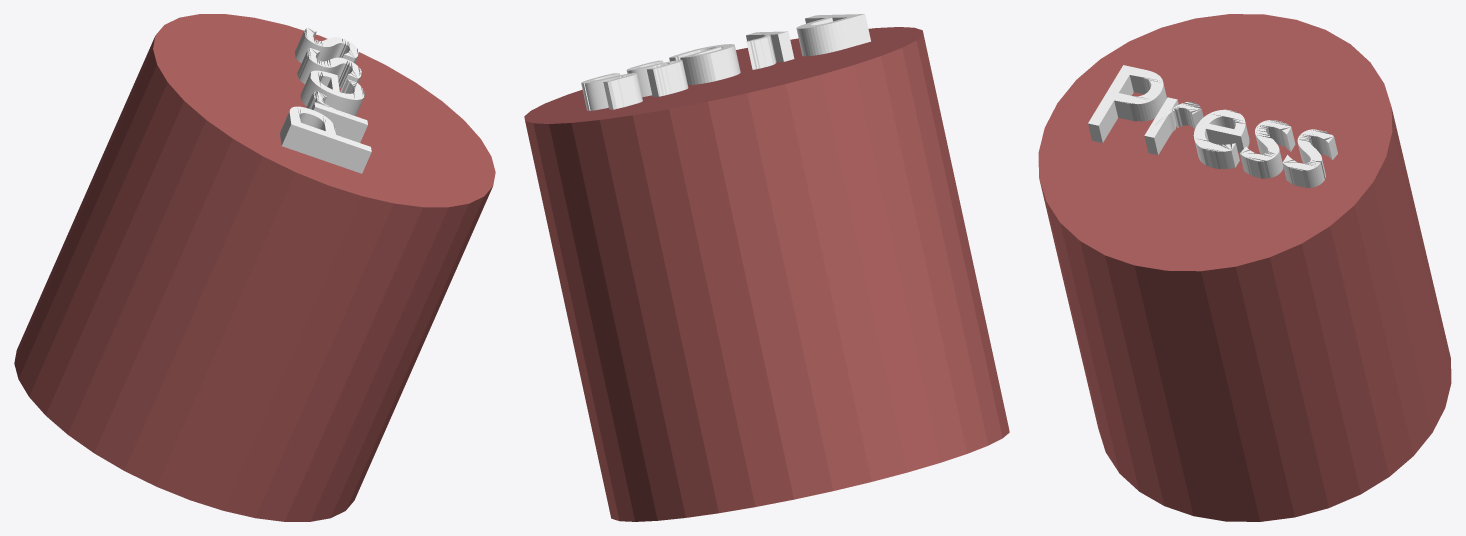
The model's file is butPalace.glb.
The picture shows the model from 3 angles, left to right: view 1: azimuth 30°, elevation 25°; view 2: azimuth 150°, elevation 25°; view 3: azimuth 270°, elevation 25°; orthographic projection. The views are drawn at different scales.
Parts seen in each view (by area): view 1: Cylinder.002; view 2: Cylinder.002; view 3: Cylinder.002.
Part boxes in pixels (x1,y1,x2,y2): Cylinder.002: (14,14,495,521); Cylinder.002: (524,14,1009,521); Cylinder.002: (1038,14,1451,521).
Size of the model in its own units: 4.92 by 5.01 by 4.42.
